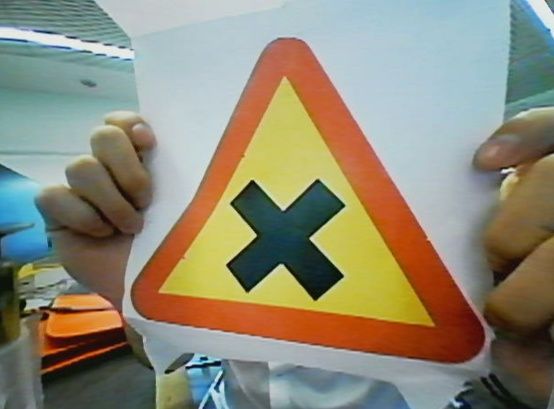junction: (133, 23, 485, 368)
